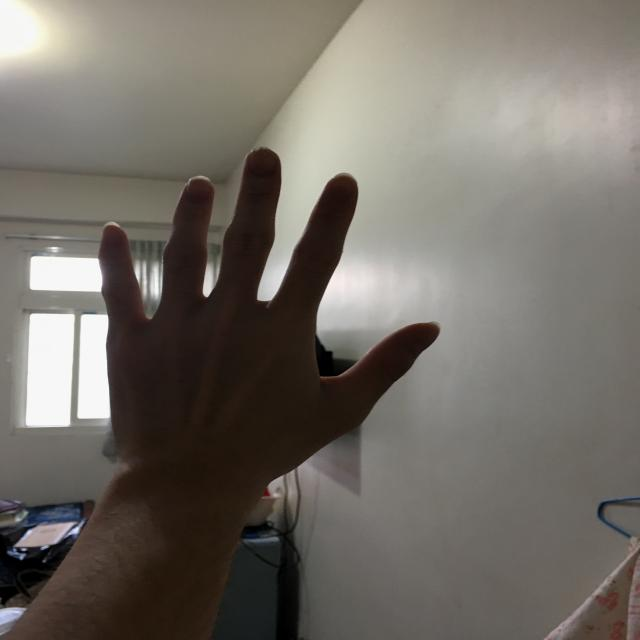no_glove: (60, 135, 449, 528)
